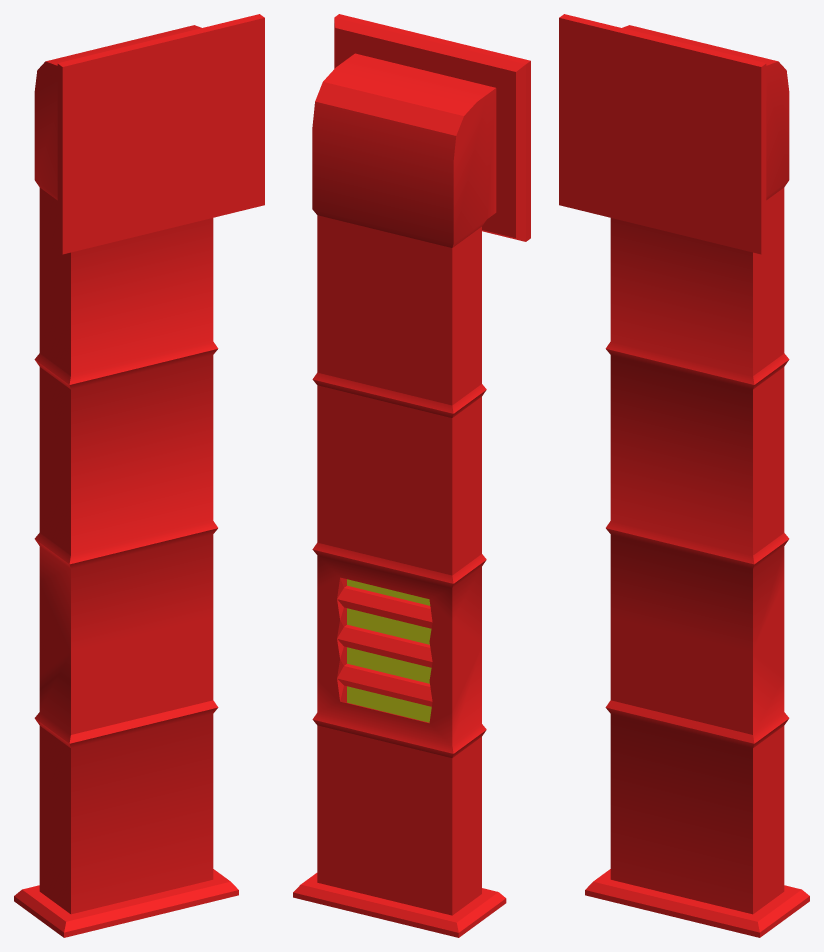
The model's file is vent1.FBX.
3 renders of one model, left to right at view 1: azimuth 30°, elevation 25°; view 2: azimuth 150°, elevation 25°; view 3: azimuth 330°, elevation 25°, orthographic. The views are drawn at different scales.
Parts seen in each view (by area): view 1: vent001; view 2: vent001; view 3: vent001.
Boxes of the visible parts, x1=… form: vent001: x1=14, y1=14, x2=264, y2=937; vent001: x1=293, y1=14, x2=530, y2=937; vent001: x1=559, y1=14, x2=809, y2=937.
Size of the model in its own units: 31.74 by 132 by 16.92.
